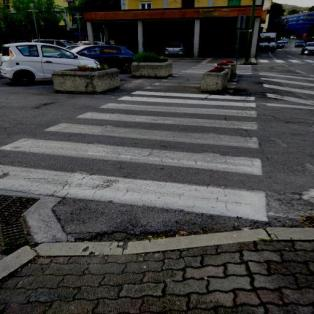Paso de Cebra: (36, 111, 270, 152)
